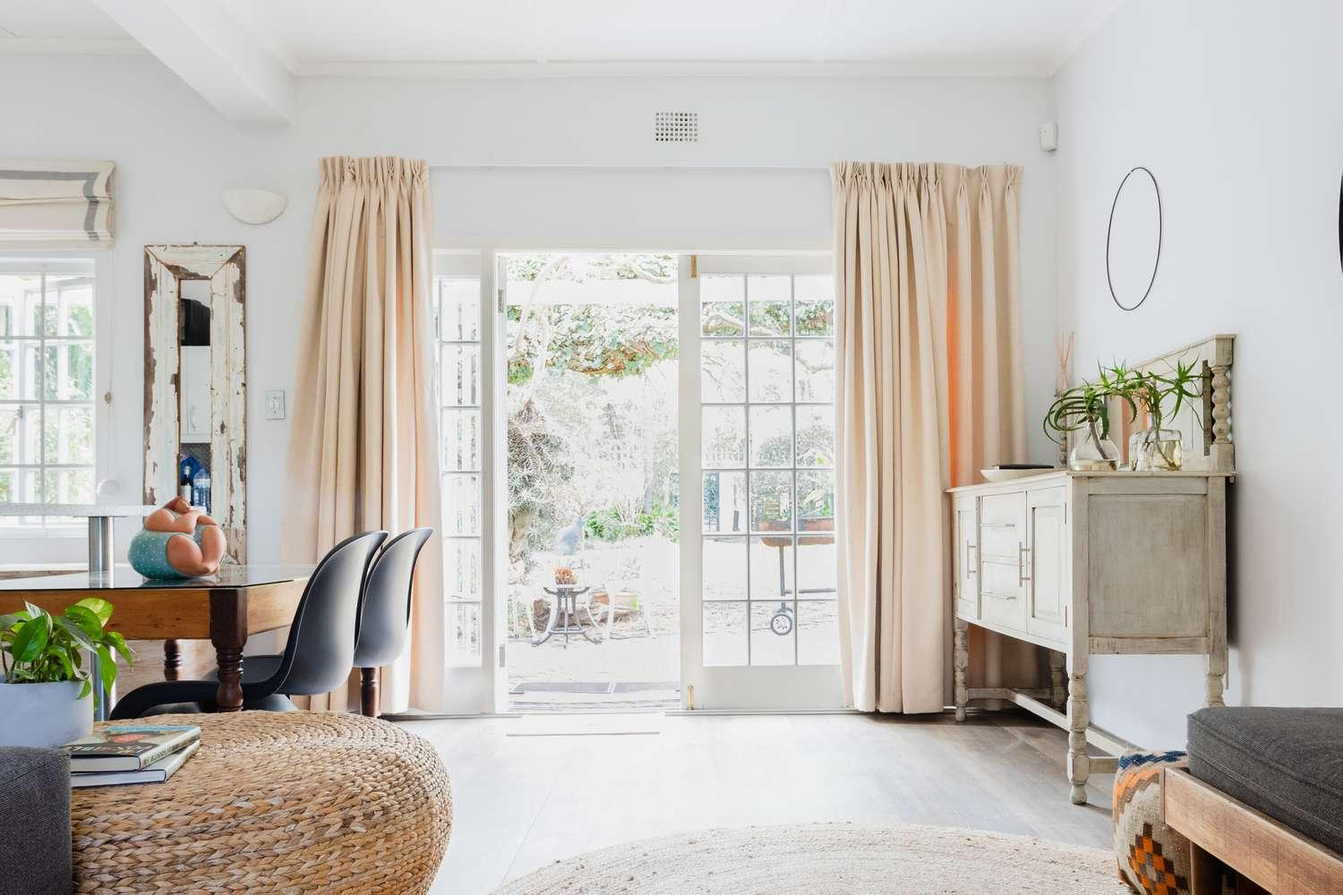chair: (125, 532, 384, 728), (348, 521, 443, 742)
door: (677, 256, 878, 713), (359, 258, 504, 726)
table: (939, 471, 1229, 796), (2, 551, 394, 762), (1151, 736, 1343, 895), (511, 576, 628, 647)
